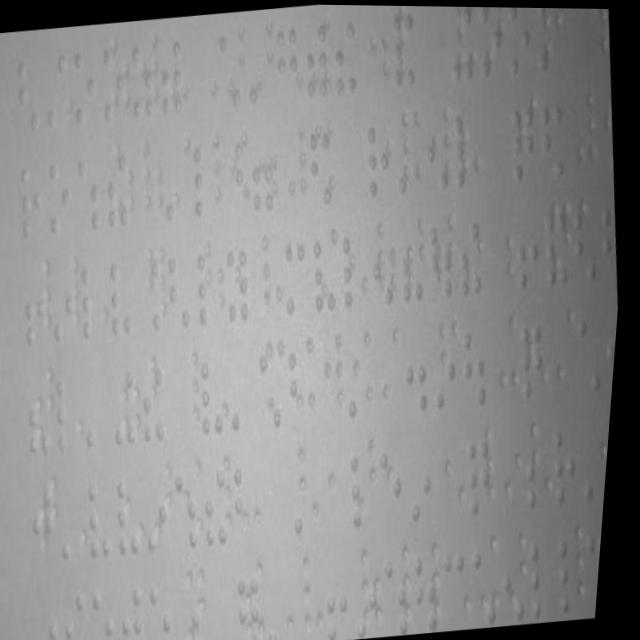braiile: (531, 533, 568, 619), (409, 441, 445, 525), (88, 478, 124, 561), (570, 203, 606, 286), (512, 209, 548, 291), (16, 160, 52, 242), (580, 418, 615, 502), (416, 550, 451, 632), (60, 482, 95, 564), (68, 46, 103, 128), (83, 367, 117, 451), (559, 532, 593, 615), (55, 369, 88, 454), (21, 267, 56, 347), (462, 326, 496, 408), (50, 264, 84, 345), (199, 356, 233, 436), (108, 257, 142, 337), (554, 422, 587, 504), (403, 336, 438, 412), (79, 264, 114, 340), (13, 54, 45, 136), (228, 357, 262, 434), (281, 238, 315, 315), (363, 121, 397, 198), (44, 156, 76, 237), (189, 140, 221, 221), (501, 6, 536, 77), (269, 569, 300, 640), (126, 585, 157, 640), (97, 587, 129, 640), (41, 592, 73, 640)
